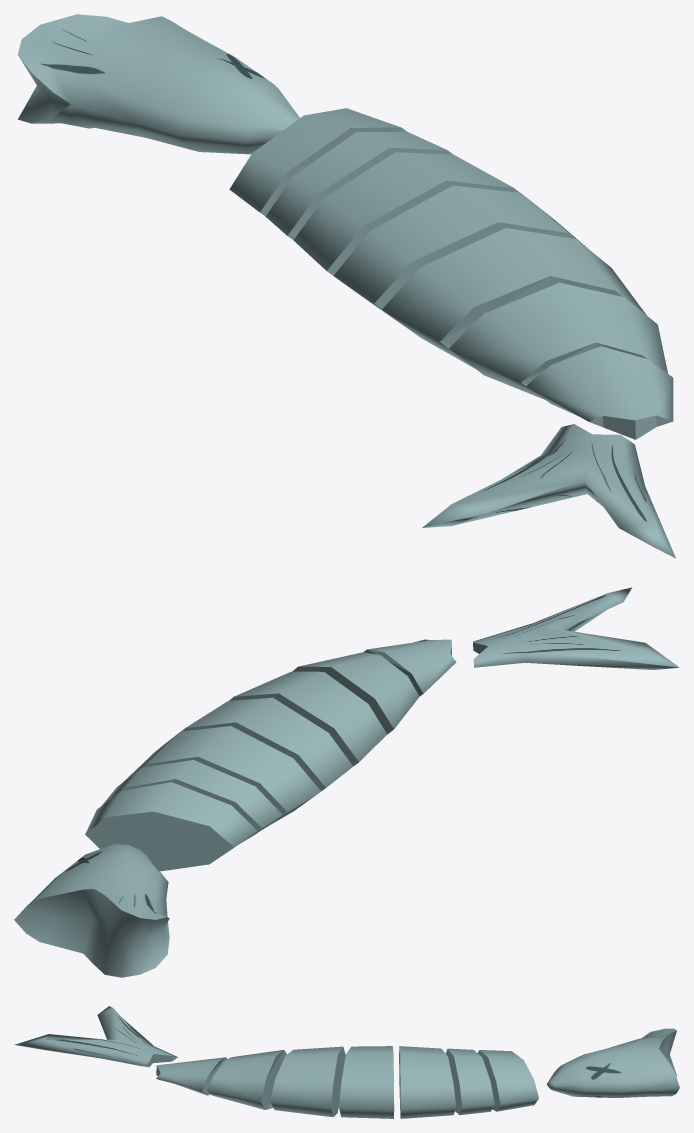
Rendered from fish-cut.FBX.
3 renders of one model, top to bottom at view 1: azimuth 30°, elevation 25°; view 2: azimuth 150°, elevation 25°; view 3: azimuth 270°, elevation 25°, orthographic. The views are drawn at different scales.
Visible parts, largest first — view 1: Fish Chunks, Fish Head, Fish Tail; view 2: Fish Chunks, Fish Head, Fish Tail; view 3: Fish Chunks, Fish Head, Fish Tail.
Boxes of the visible parts, bbox=[...] form: Fish Chunks: bbox=[229, 108, 673, 439]; Fish Head: bbox=[17, 14, 299, 154]; Fish Tail: bbox=[422, 424, 675, 558]; Fish Chunks: bbox=[85, 639, 456, 871]; Fish Head: bbox=[14, 844, 169, 977]; Fish Tail: bbox=[473, 587, 679, 669]; Fish Chunks: bbox=[156, 1046, 538, 1118]; Fish Head: bbox=[546, 1028, 679, 1097]; Fish Tail: bbox=[14, 1006, 177, 1067].
Bounding box in the file's own units: 80.42 × 22.06 × 222.
